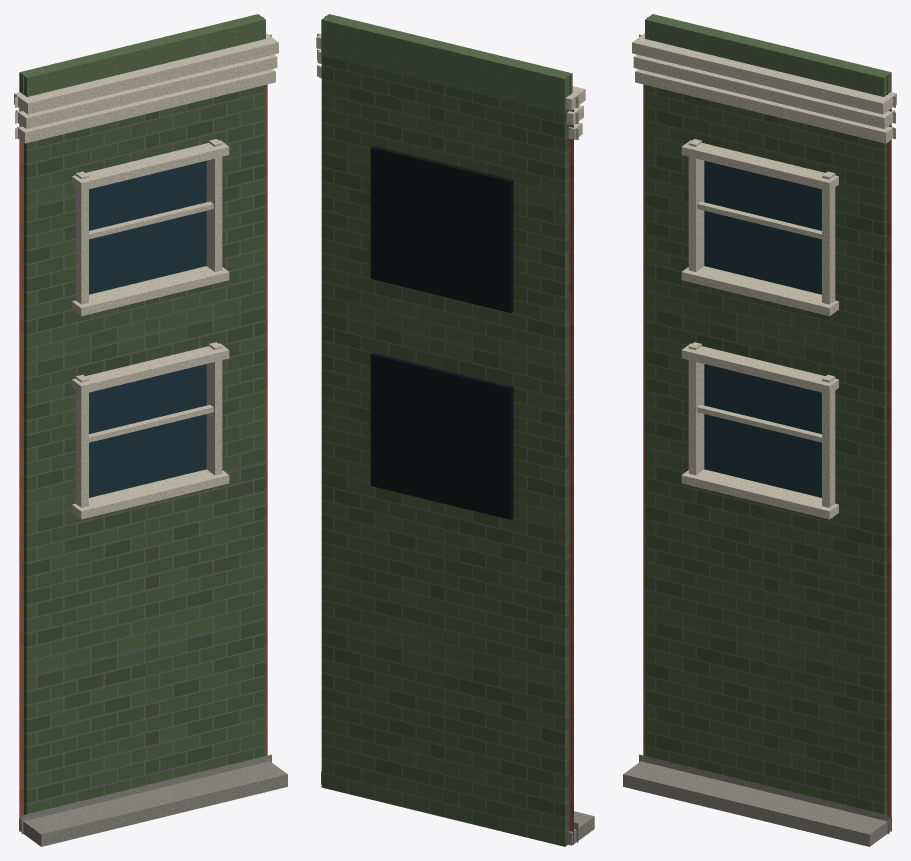
The model's file is VICT26_lod2.glb.
3 views of the same model, side by side, from view 1: azimuth 30°, elevation 25°; view 2: azimuth 150°, elevation 25°; view 3: azimuth 330°, elevation 25° (orthographic).
Parts seen in each view (by area): view 1: VICT26_FRONT_LOD2; view 2: VICT26_FRONT_LOD2; view 3: VICT26_FRONT_LOD2.
Part boxes in pixels (<box>): VICT26_FRONT_LOD2: <box>14,14,287,846</box>; VICT26_FRONT_LOD2: <box>316,14,594,846</box>; VICT26_FRONT_LOD2: <box>623,14,896,846</box>.
Size of the model in its own units: 3.44 by 9.66 by 0.65.
8 materials, 6 textured.
